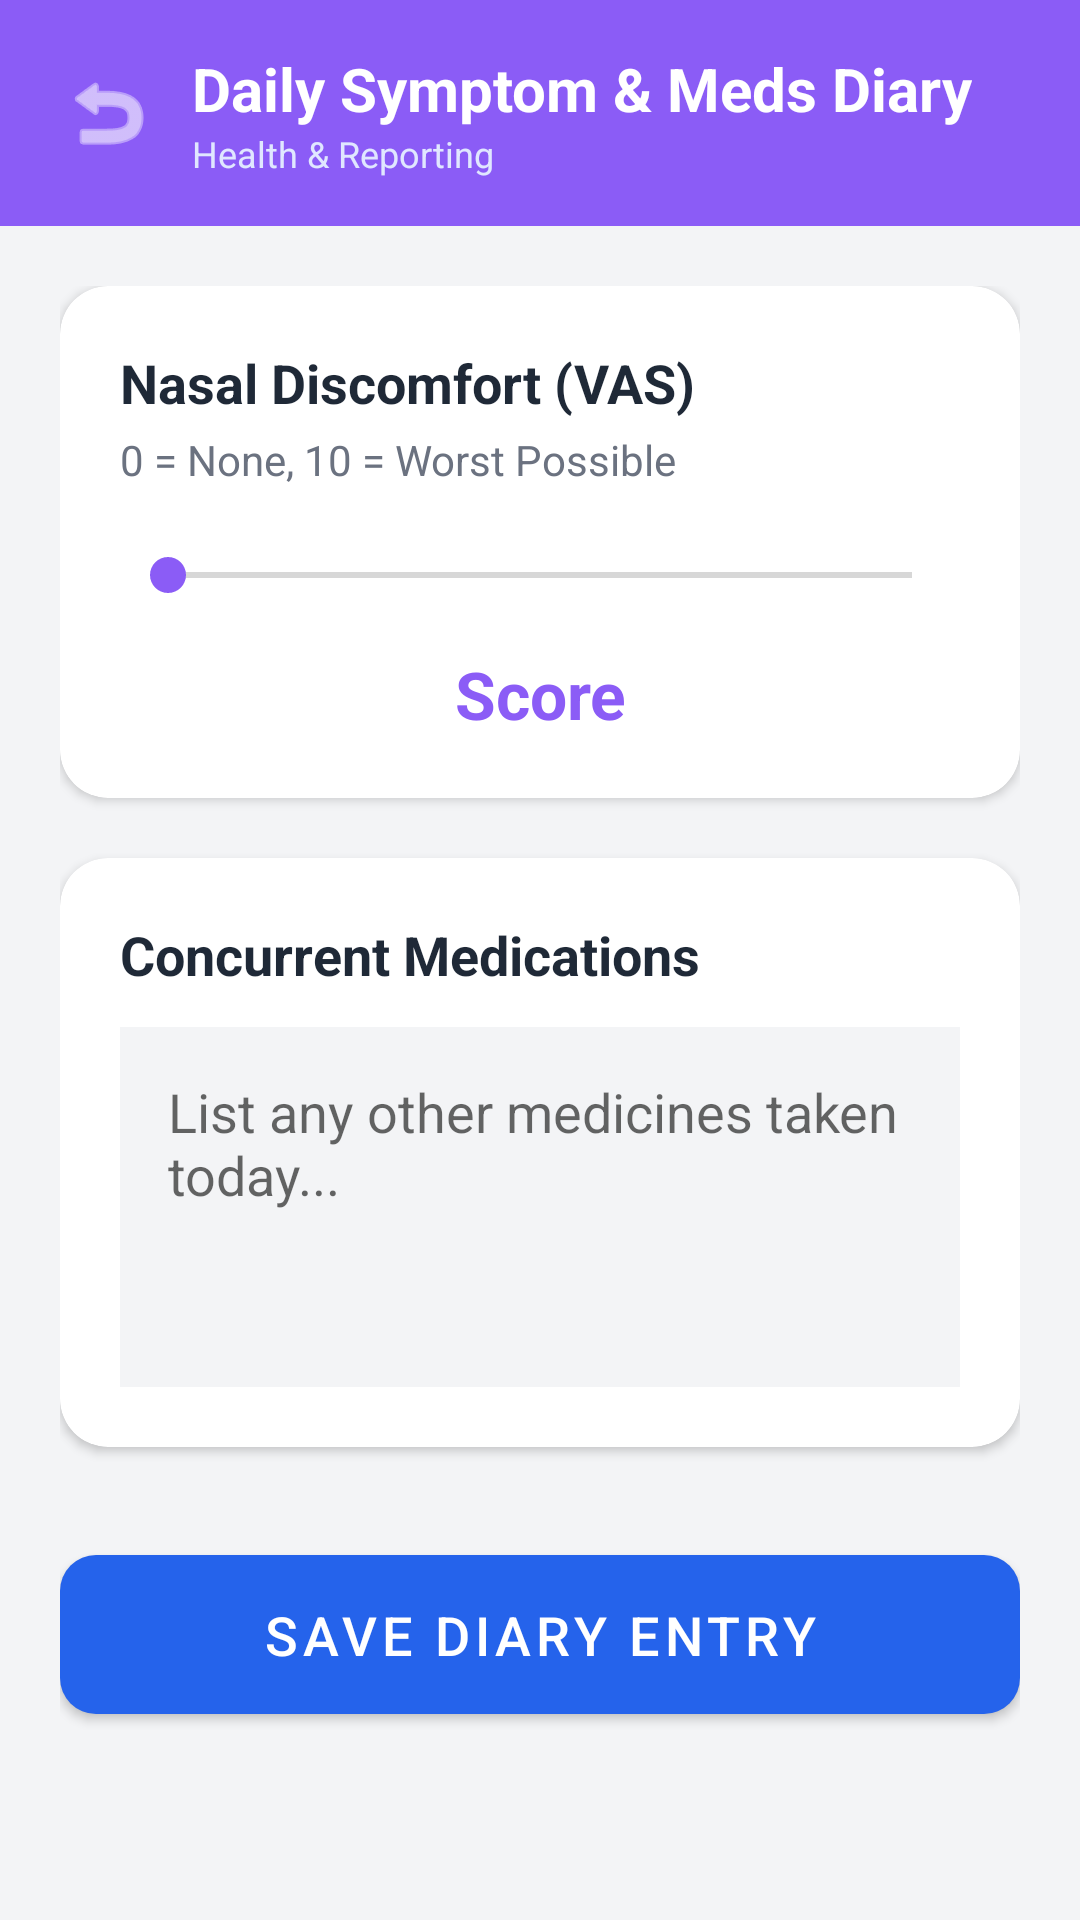

Point at icon controls on the screen. Image size 1080x1920, points as (x,y).
revert: (109,114)
